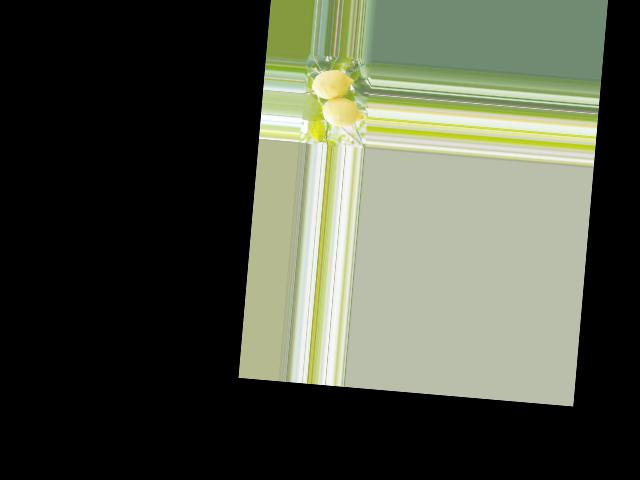lemon: (317, 94, 364, 131)
